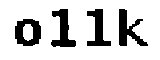1: (49, 5, 80, 51), (84, 8, 113, 52)
k: (117, 7, 150, 51)
o: (11, 17, 43, 48)
